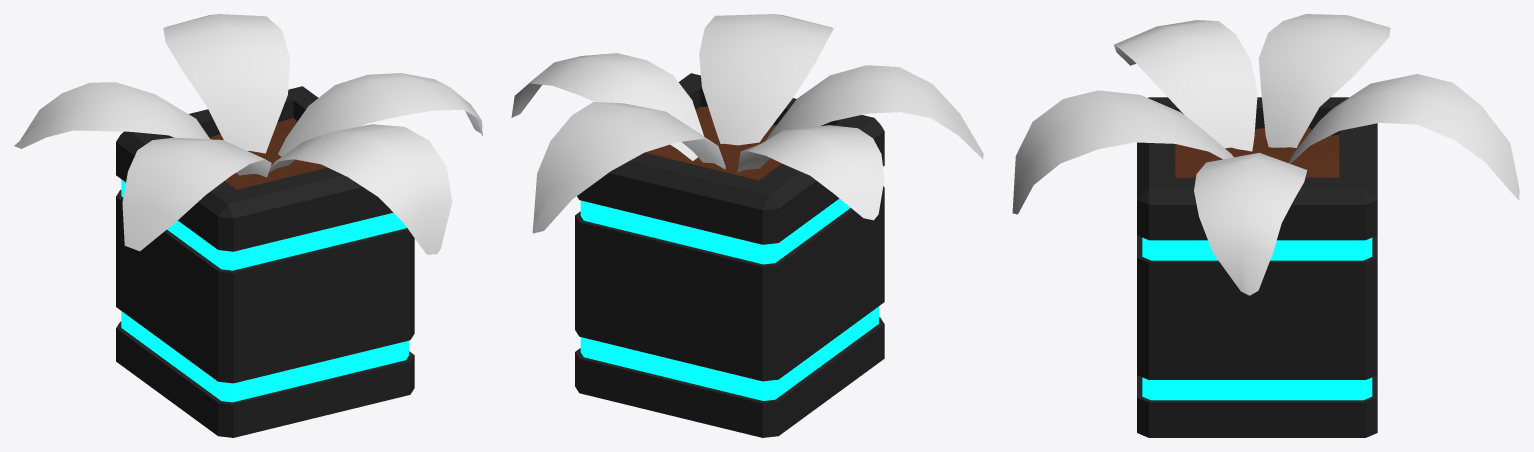
Rendered from plant.fbx.
3 renders of one model, left to right at view 1: azimuth 30°, elevation 25°; view 2: azimuth 150°, elevation 25°; view 3: azimuth 270°, elevation 25°, orthographic. The views are drawn at different scales.
Parts seen in each view (by area): view 1: Cube, Plane, Plane.003, Plane.004, Plane.001, Plane.002, Dirt; view 2: Cube, Plane.003, Plane, Plane.004, Plane.002, Plane.001, Dirt; view 3: Cube, Plane.004, Plane.002, Plane.003, Plane.001, Plane, Dirt.
Boxes of the visible parts, box(x1,y1,x2,y2) form: Cube: box(116, 86, 414, 437); Plane: box(163, 14, 290, 153); Plane.003: box(269, 124, 452, 254); Plane.004: box(122, 137, 271, 251); Plane.001: box(278, 73, 482, 156); Plane.002: box(14, 82, 209, 148); Dirt: box(210, 118, 327, 189); Cube: box(575, 73, 884, 437); Plane.003: box(699, 14, 833, 145); Plane: box(532, 102, 725, 233); Plane.004: box(766, 65, 983, 159); Plane.002: box(737, 125, 884, 220); Plane.001: box(511, 53, 703, 160); Dirt: box(645, 106, 781, 180); Cube: box(1137, 97, 1377, 437); Plane.004: box(1114, 20, 1257, 151); Plane.002: box(1258, 14, 1390, 147); Plane.003: box(1012, 90, 1233, 214); Plane.001: box(1194, 152, 1307, 295); Plane: box(1289, 74, 1519, 200); Dirt: box(1175, 127, 1339, 177).
Size of the model in its own units: 417 by 284 by 421.
